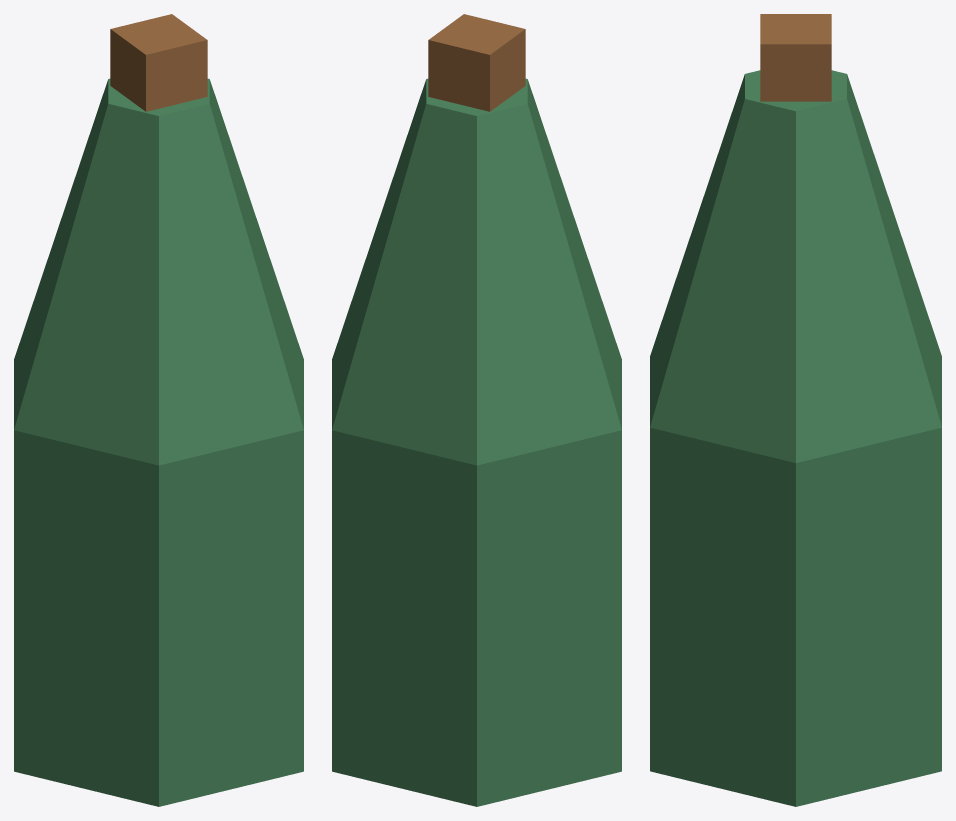
File: SM_Prop_RumBottle_LQ.glb
3 renders of one model, left to right at view 1: azimuth 30°, elevation 25°; view 2: azimuth 150°, elevation 25°; view 3: azimuth 270°, elevation 25°, orthographic.
Parts seen in each view (by area): view 1: SM_Prop_RumBottle_LQ; view 2: SM_Prop_RumBottle_LQ; view 3: SM_Prop_RumBottle_LQ.
Part boxes in pixels (x1,y1,x2,y2): SM_Prop_RumBottle_LQ: (14, 14, 303, 806); SM_Prop_RumBottle_LQ: (332, 14, 621, 806); SM_Prop_RumBottle_LQ: (650, 14, 941, 806).
Size of the model in its own units: 0.16 by 0.37 by 0.1386.
Materials: 1 (1 with a texture image).
